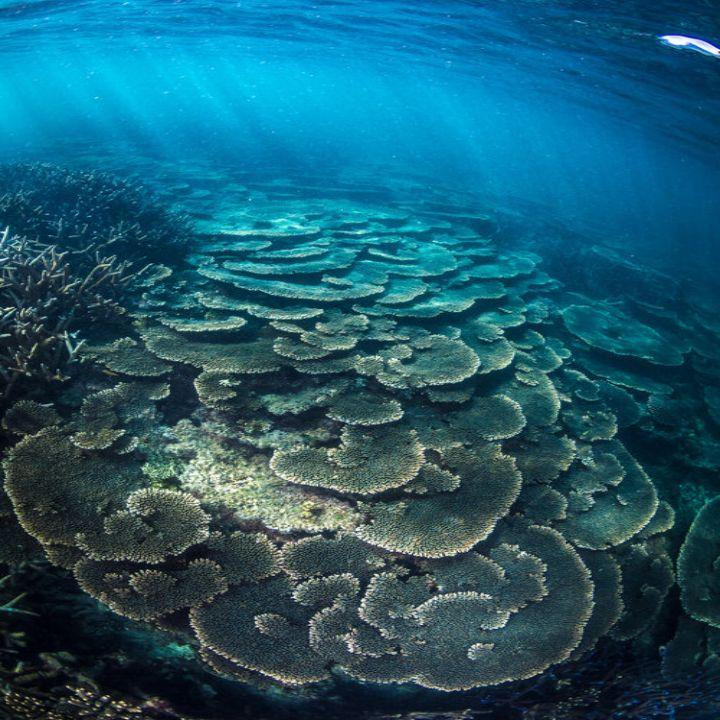Healthy Coral: (16, 159, 694, 703)
